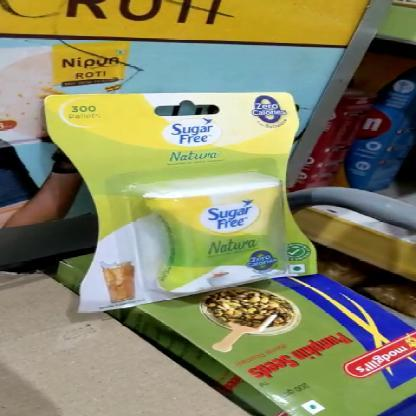SUGAR FREE NATURA 500 PELLET: (47, 92, 316, 310)
